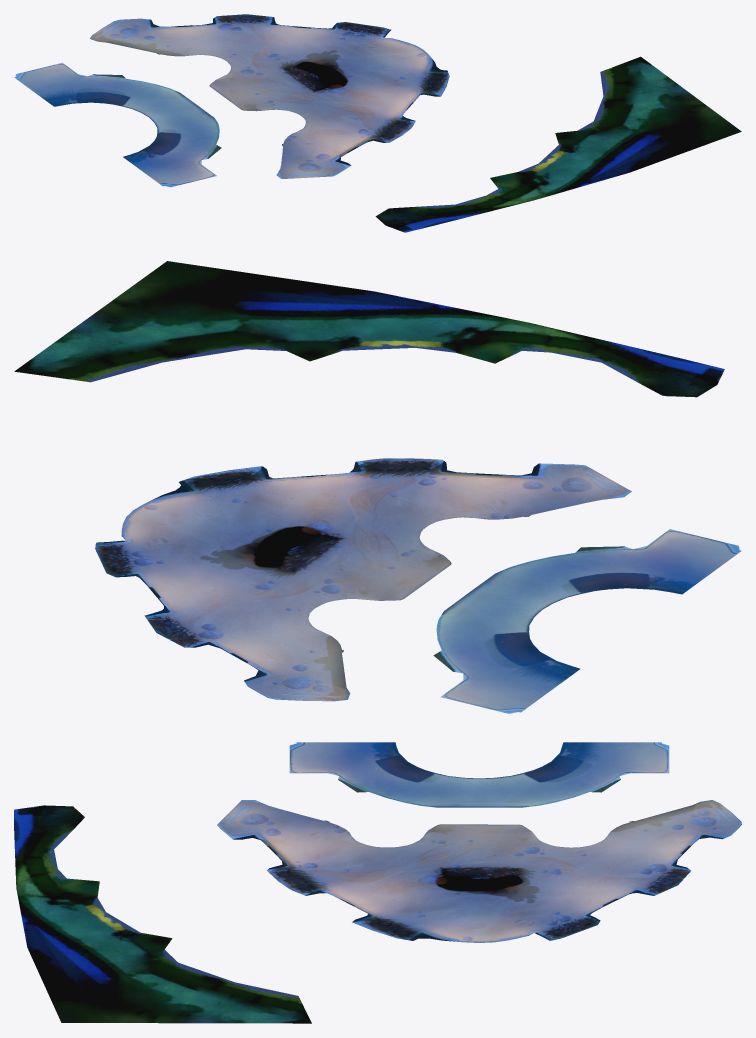
Rendered from pref_sm_beach_techsmall_WSJ_001_bk_inner_L_lv1.fbx.
3 renders of one model, top to bottom at view 1: azimuth 30°, elevation 25°; view 2: azimuth 150°, elevation 25°; view 3: azimuth 270°, elevation 25°, orthographic. The views are drawn at different scales.
Visible parts, largest first — view 1: pref_sm_beach_techsmall_WSJ_001_bk_inner_L_lv1; view 2: pref_sm_beach_techsmall_WSJ_001_bk_inner_L_lv1; view 3: pref_sm_beach_techsmall_WSJ_001_bk_inner_L_lv1.
Part boxes in pixels (x1,y1,x2,y2): pref_sm_beach_techsmall_WSJ_001_bk_inner_L_lv1: [14, 14, 741, 232]; pref_sm_beach_techsmall_WSJ_001_bk_inner_L_lv1: [14, 261, 741, 713]; pref_sm_beach_techsmall_WSJ_001_bk_inner_L_lv1: [14, 742, 741, 1023].
Size of the model in its own units: 54.22 by 0.7573 by 57.57.
